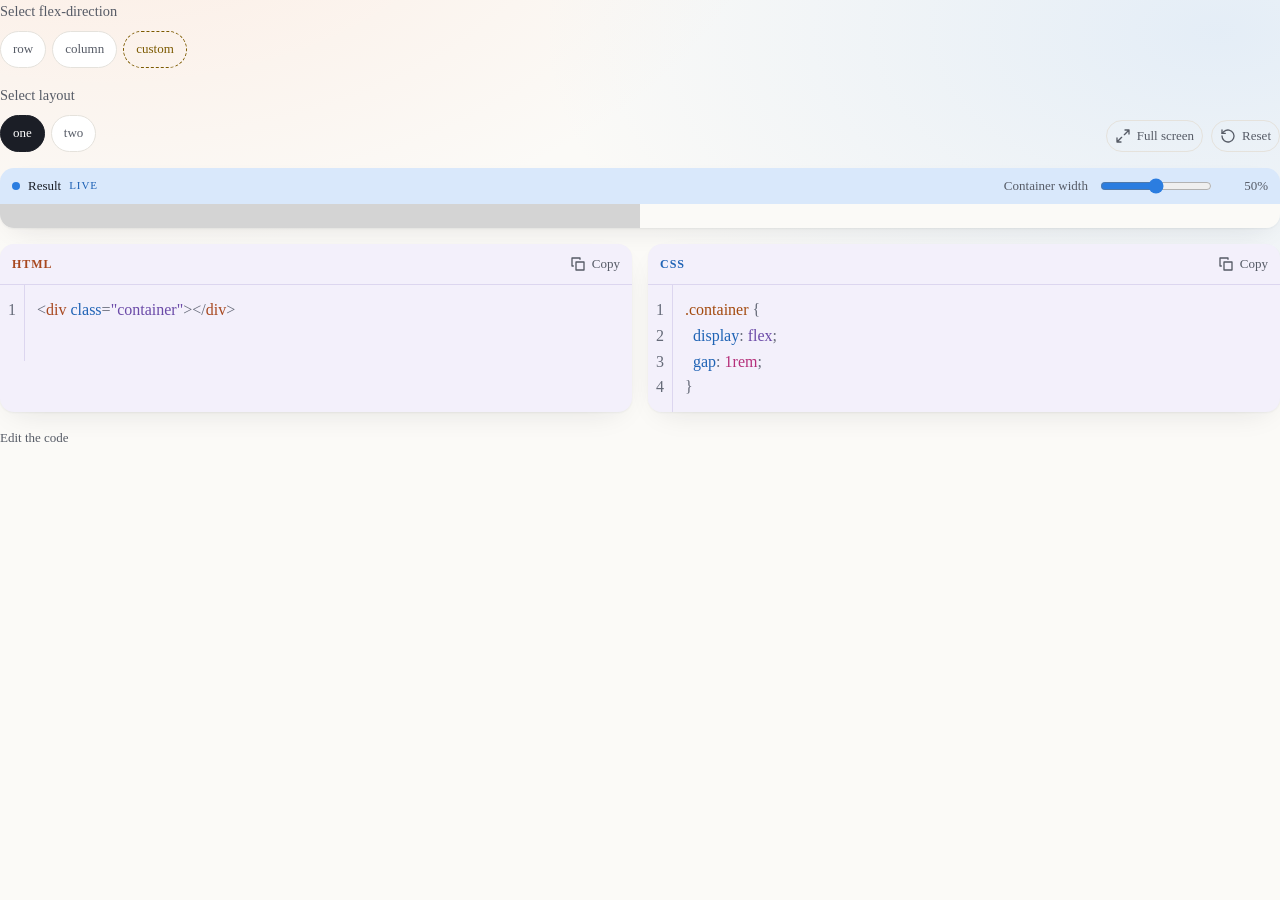
Scenario: Playground width and reset › restores the original code and width
Click the radio button labelled "column": (85, 49) [52, 31, 117, 68]
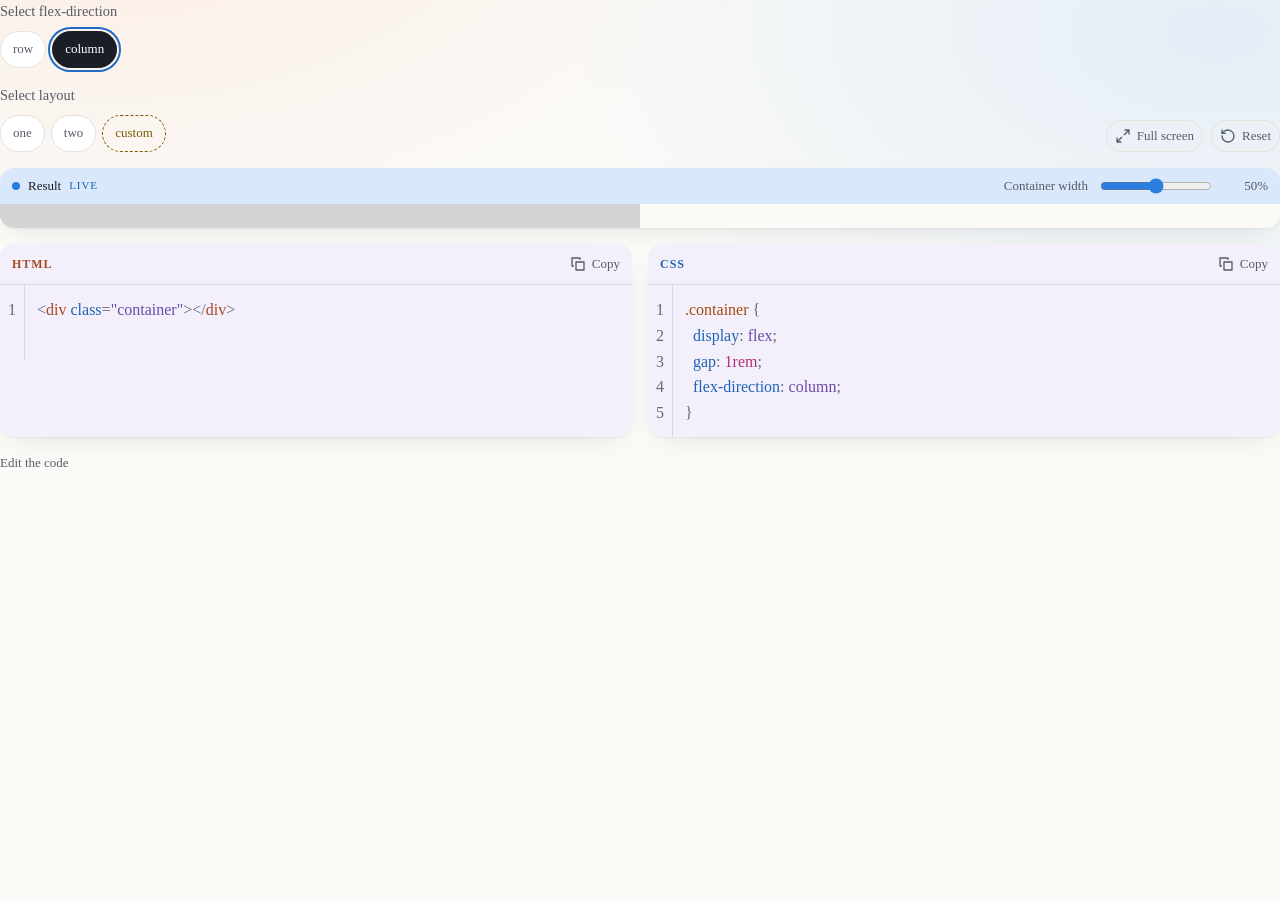
Set the slider labelled "Container width 50%" to "80": (1185, 186) [1100, 178, 1212, 194]
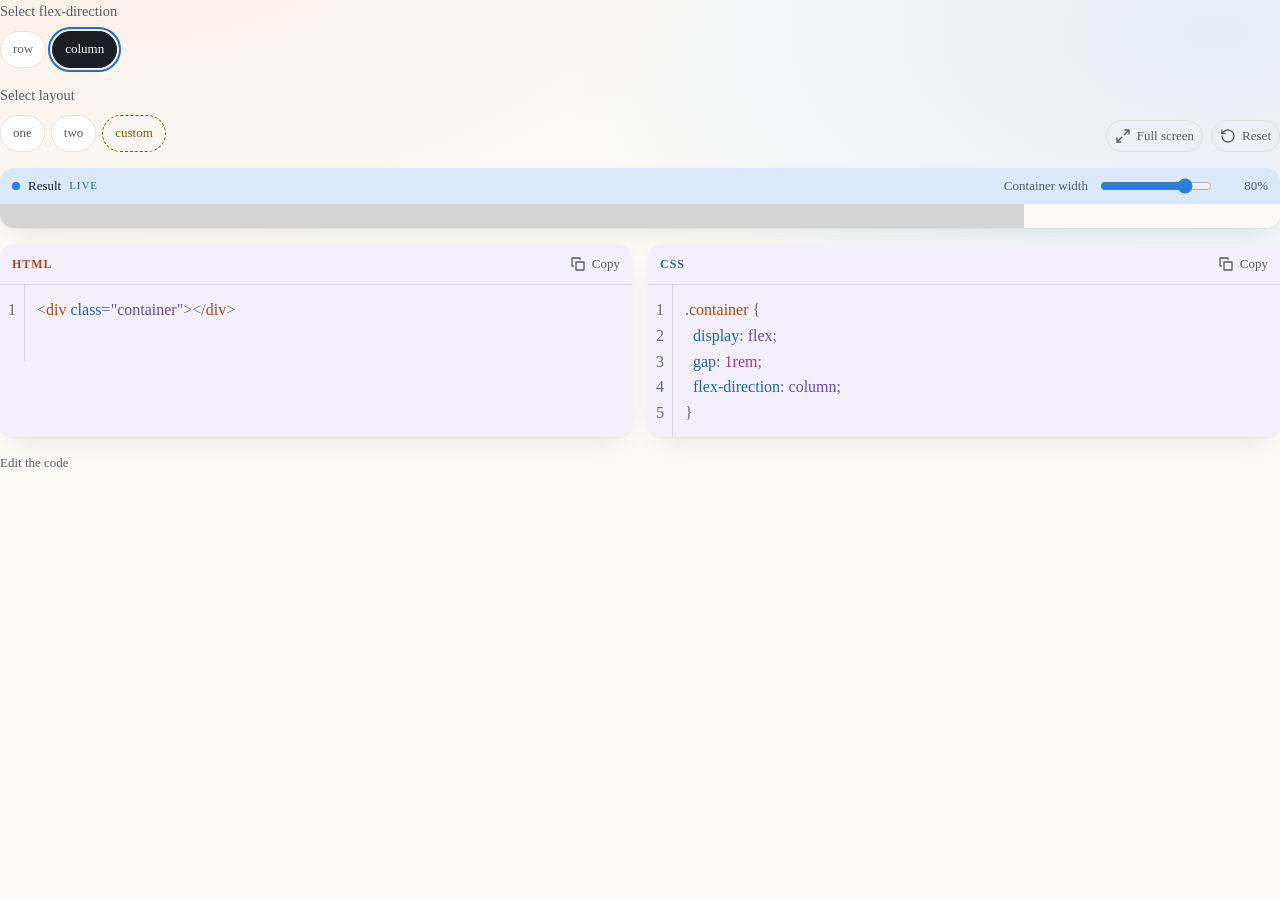
Click the button "Reset": (1246, 136) [1211, 120, 1279, 152]
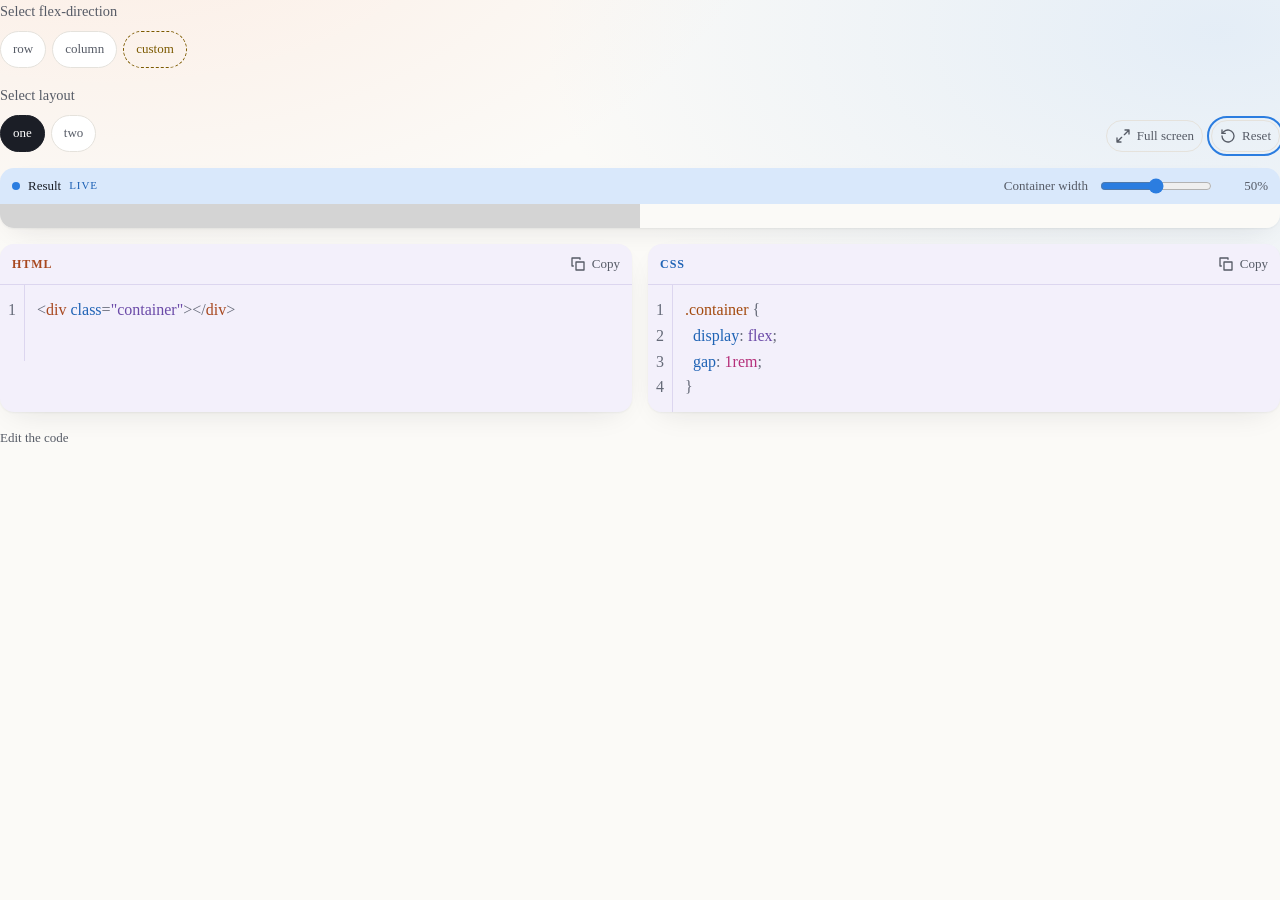
Expected: the slider labelled "Container width 50%" holds "50", [1100, 178, 1212, 194]
